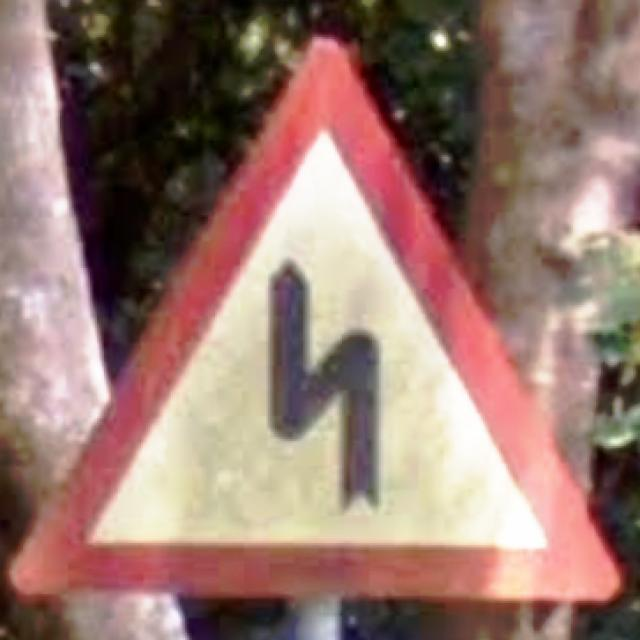doublebendleft: (12, 39, 626, 608)
